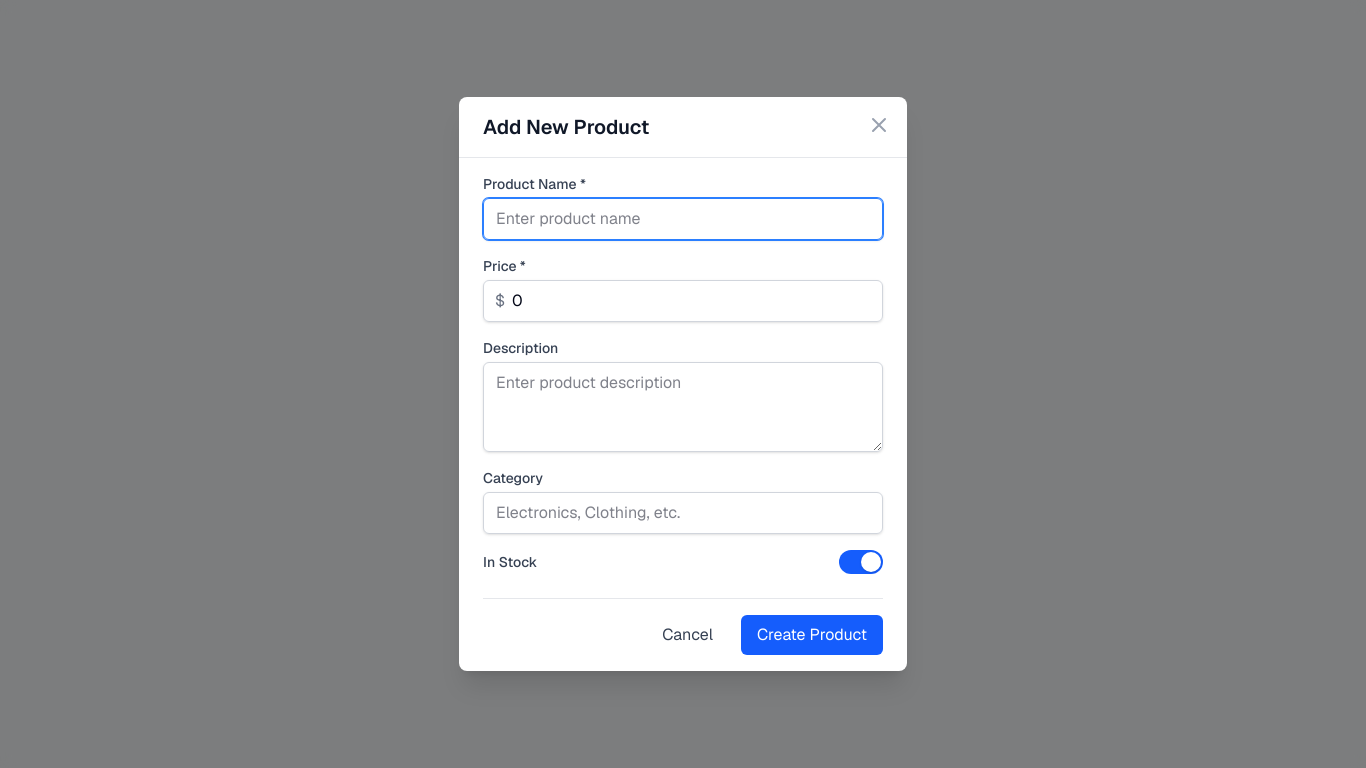
ProductFormModal › Form Interactions › should clear field errors when user types
The image size is (1366, 768).
Submit empty form to trigger validation
Click the button "Create Product" at (812,635), box [741,615,883,655]
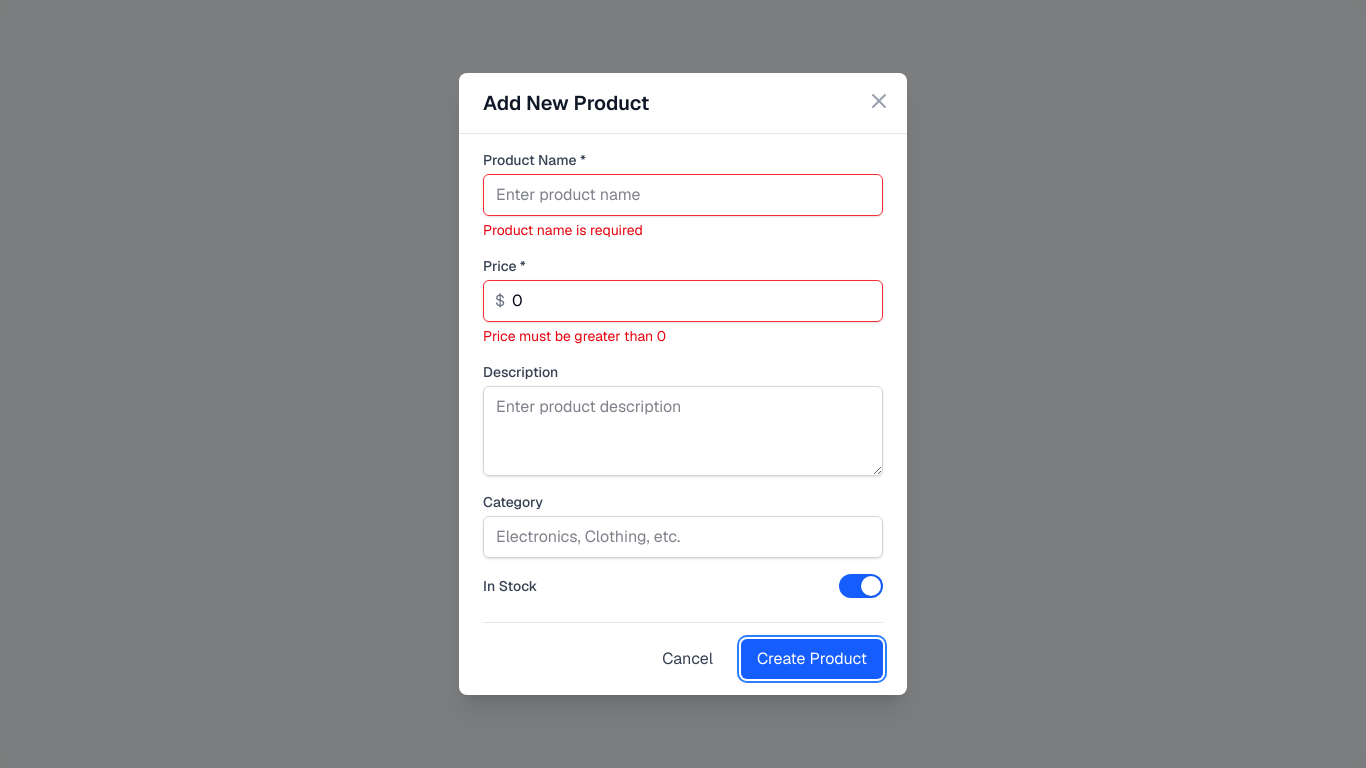
Expected: the text "Product name is required" is shown, [483,221,643,239]
Type in the name field
Type "Test" into the field labelled "Product Name *" at (683,195), box [483,174,883,216]
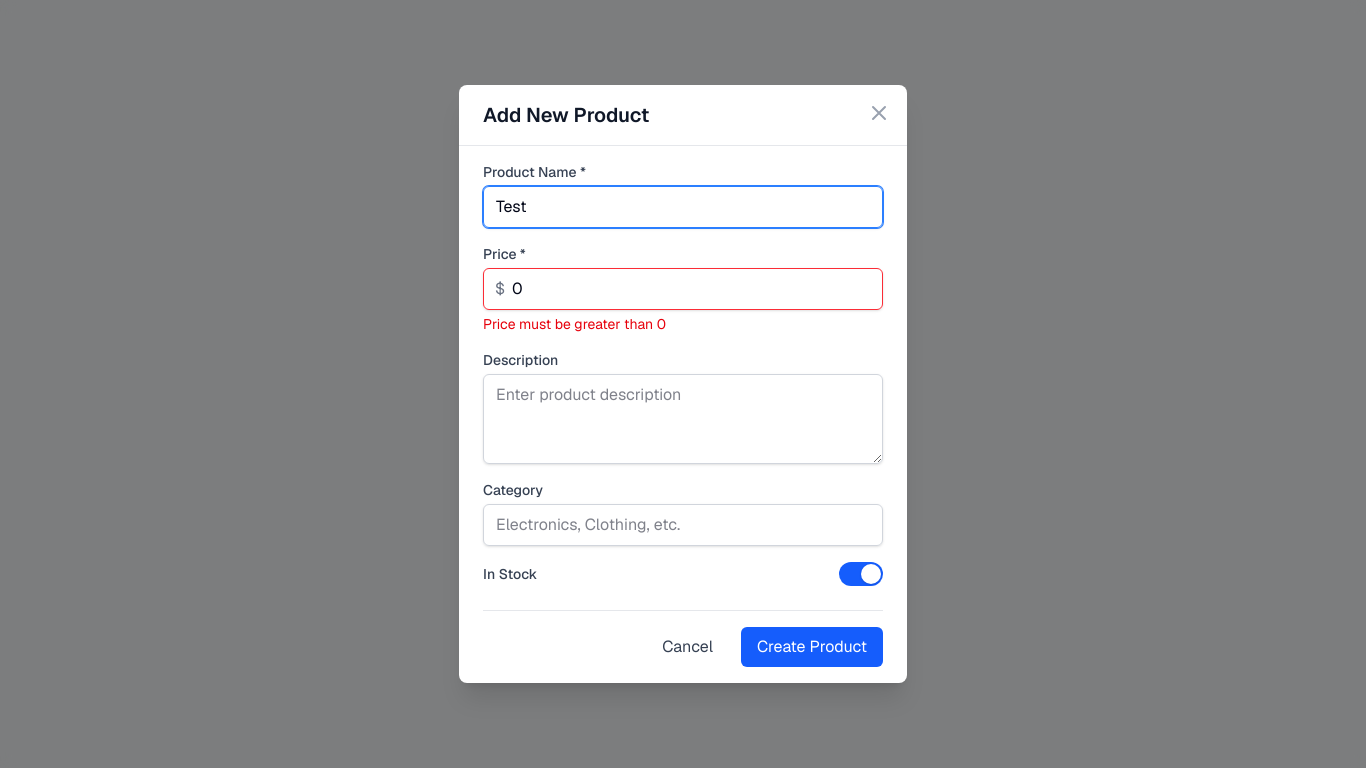
Expected: the text "Product name is required" is gone
